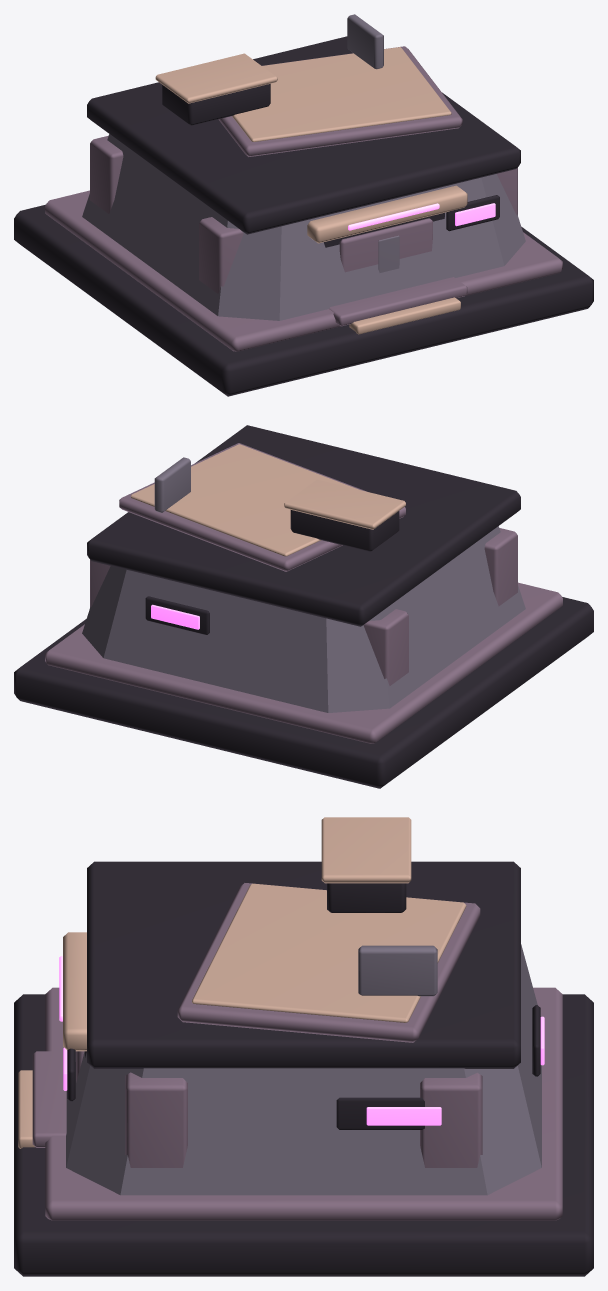
The model's file is vesper-bunker.glb.
The picture shows the model from 3 angles, top to bottom: view 1: azimuth 30°, elevation 25°; view 2: azimuth 150°, elevation 25°; view 3: azimuth 270°, elevation 25°; orthographic projection. The views are drawn at different scales.
Parts seen in each view (by area): view 1: Bunker foundation, Armored bunker casemate, Bunker plinth, Vesper reinforcement edge, Bunker entry light, Bunker firing slit 1; view 2: Bunker foundation, Armored bunker casemate, Bunker plinth, Vesper reinforcement edge, Bunker firing slit 3; view 3: Bunker foundation, Armored bunker casemate, Bunker plinth, Vesper reinforcement edge, Bunker firing slit 2.
Part boxes in pixels (x1,y1,x2,y2): Bunker foundation: (14,36,593,396); Armored bunker casemate: (82,14,525,320); Bunker plinth: (45,46,562,351); Vesper reinforcement edge: (155,47,467,334); Bunker entry light: (348,203,439,230); Bunker firing slit 1: (455,203,495,226); Bunker foundation: (14,425,593,788); Armored bunker casemate: (82,457,525,712); Bunker plinth: (45,443,562,743); Vesper reinforcement edge: (131,444,405,556); Bunker firing slit 3: (151,604,199,629); Bunker foundation: (14,861,593,1276); Armored bunker casemate: (66,944,541,1195); Bunker plinth: (32,883,562,1220); Vesper reinforcement edge: (18,817,466,1148); Bunker firing slit 2: (366,1107,441,1125).
Bounding box in the file's own units: 2.78 × 1.45 × 2.78.
